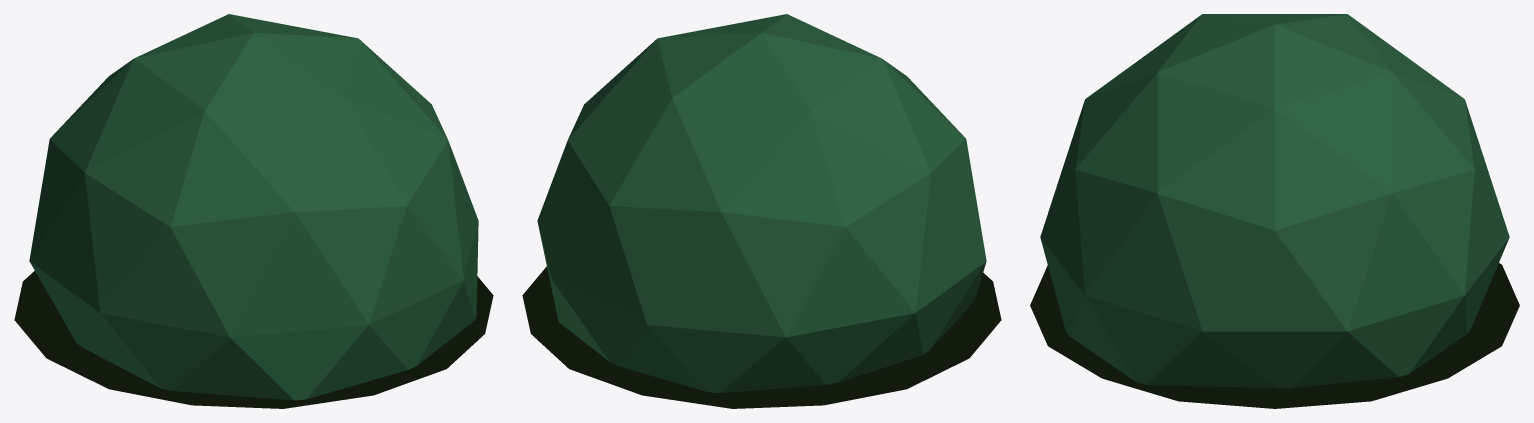
Rendered from Krzak5.fbx.
3 renders of one model, left to right at view 1: azimuth 30°, elevation 25°; view 2: azimuth 150°, elevation 25°; view 3: azimuth 270°, elevation 25°, orthographic. The views are drawn at different scales.
Parts seen in each view (by area): view 1: Krzak1; view 2: Krzak1; view 3: Krzak1.
Part boxes in pixels (left/top/right/bottom): Krzak1: left=14, top=14, right=493, bottom=408; Krzak1: left=522, top=14, right=1001, bottom=408; Krzak1: left=1030, top=14, right=1519, bottom=408.
Bounding box in the file's own units: 22769 × 14741 × 22769.
